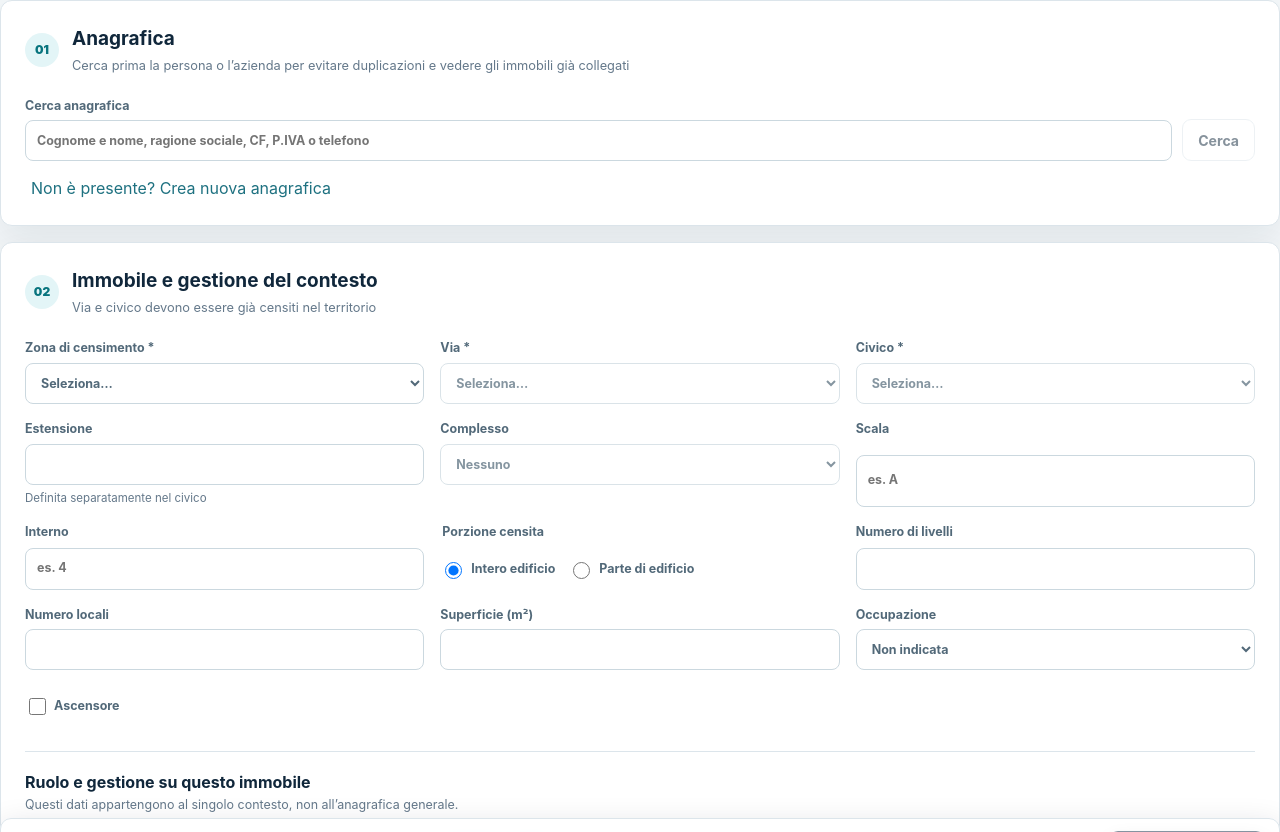
it: contact form › supports private, company and existing-subject flows
Check: the field labelled "Cerca anagrafica" is shown, box [25,120,1172,161]
Click the button "Non è presente? Crea nuova anagrafica" at x=181, y=188, box [25,175,337,201]
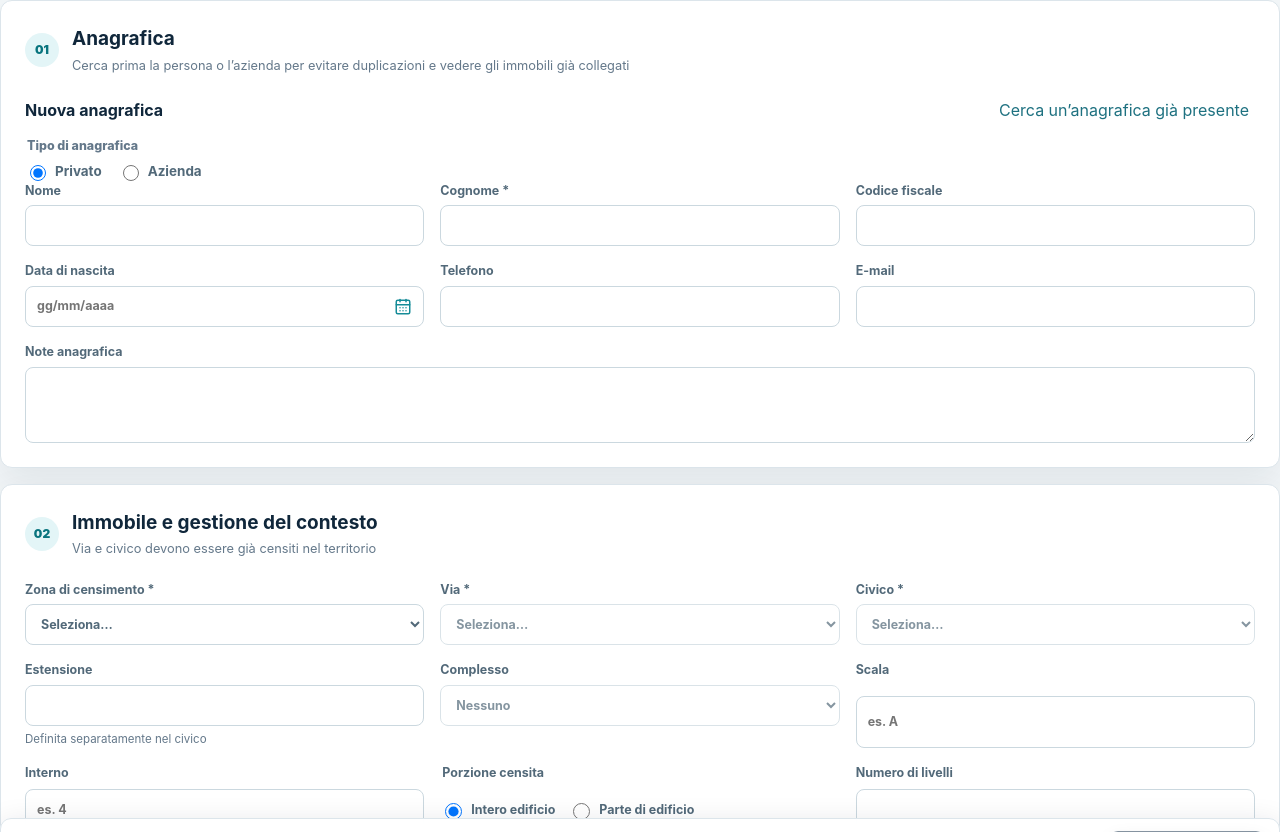
Check: the field labelled "Cognome *" is shown, box [440,205,840,246]
Click the radio button labelled "Azienda" at x=131, y=173, box [123,165,139,181]
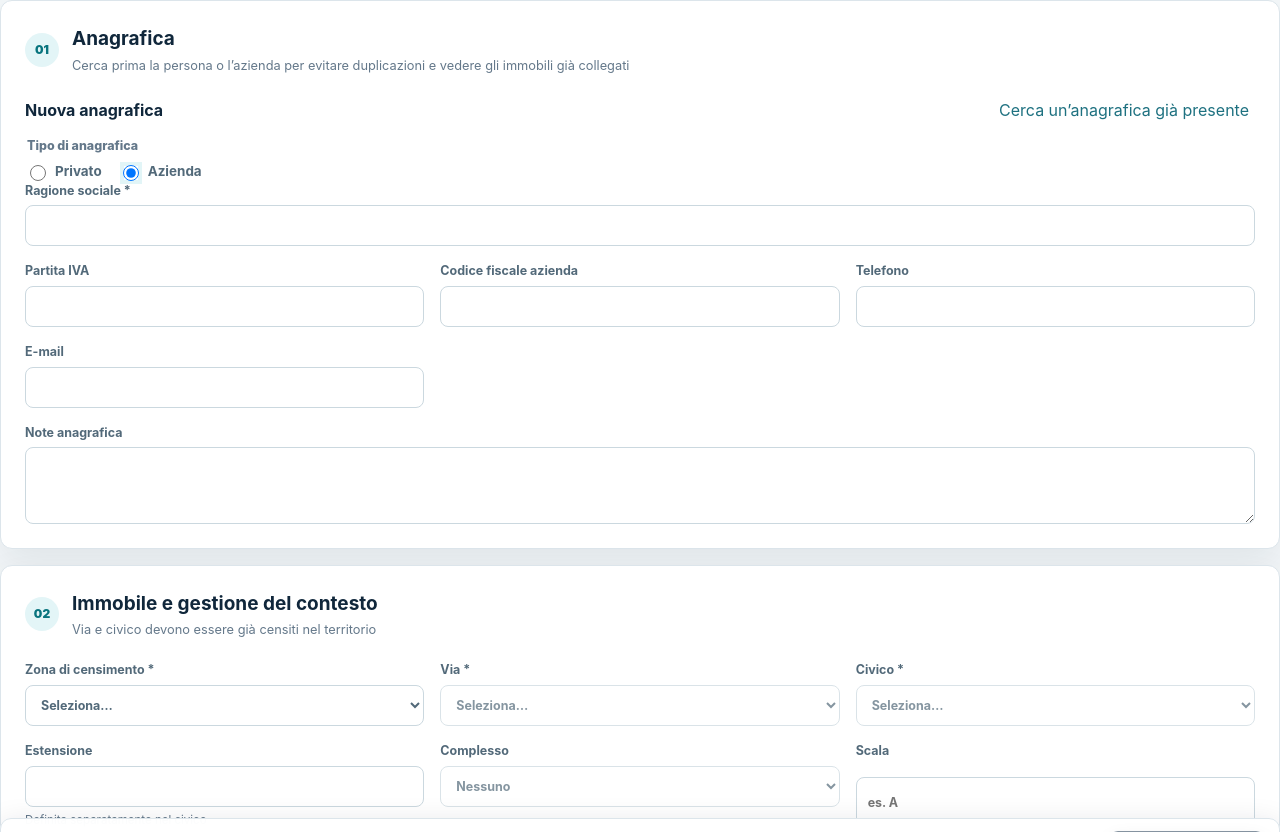
Check: the field labelled "Ragione sociale *" is shown, box [25,205,1255,246]
Check: the field labelled "Partita IVA" is shown, box [25,286,424,327]
Click the button "Cerca un’anagrafica già presente" at x=1124, y=110, box [993,97,1255,123]
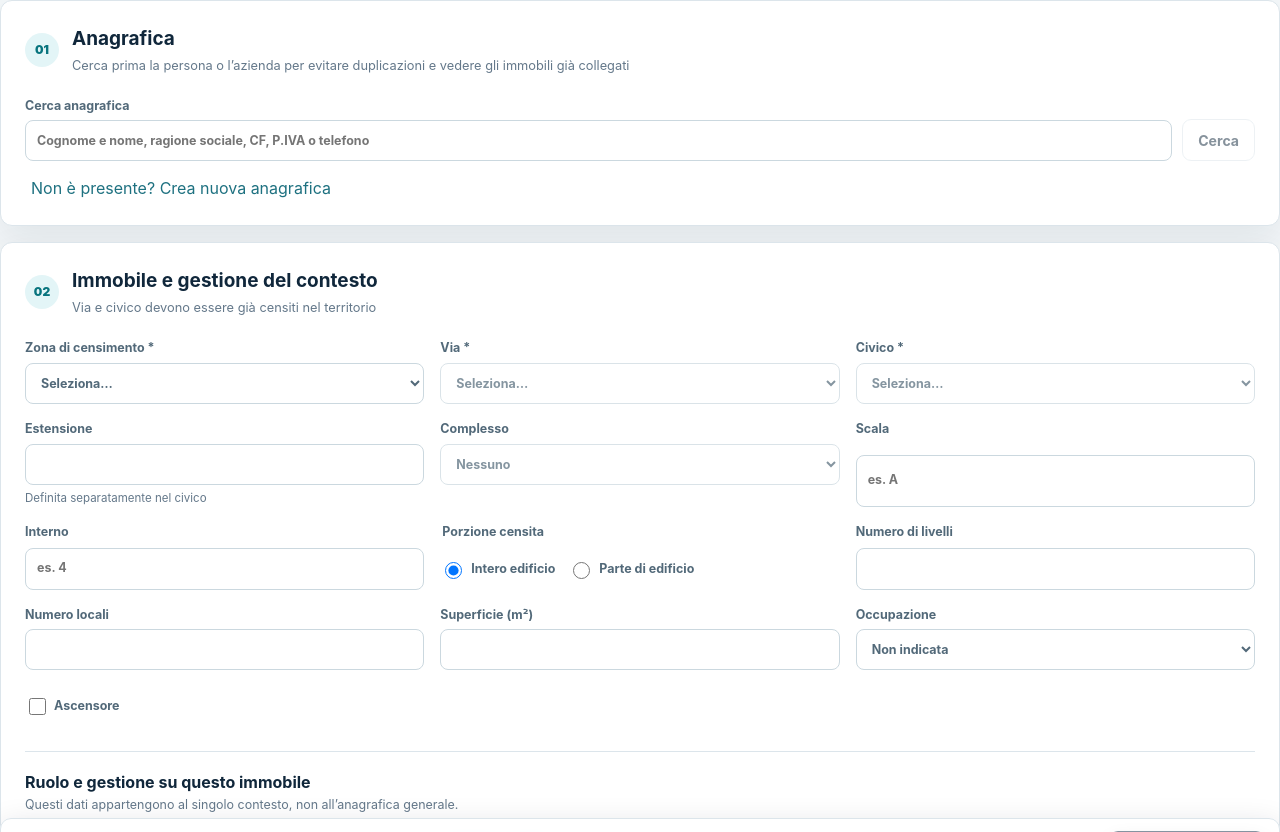
Check: the field labelled "Cerca anagrafica" is shown, box [25,120,1172,161]
